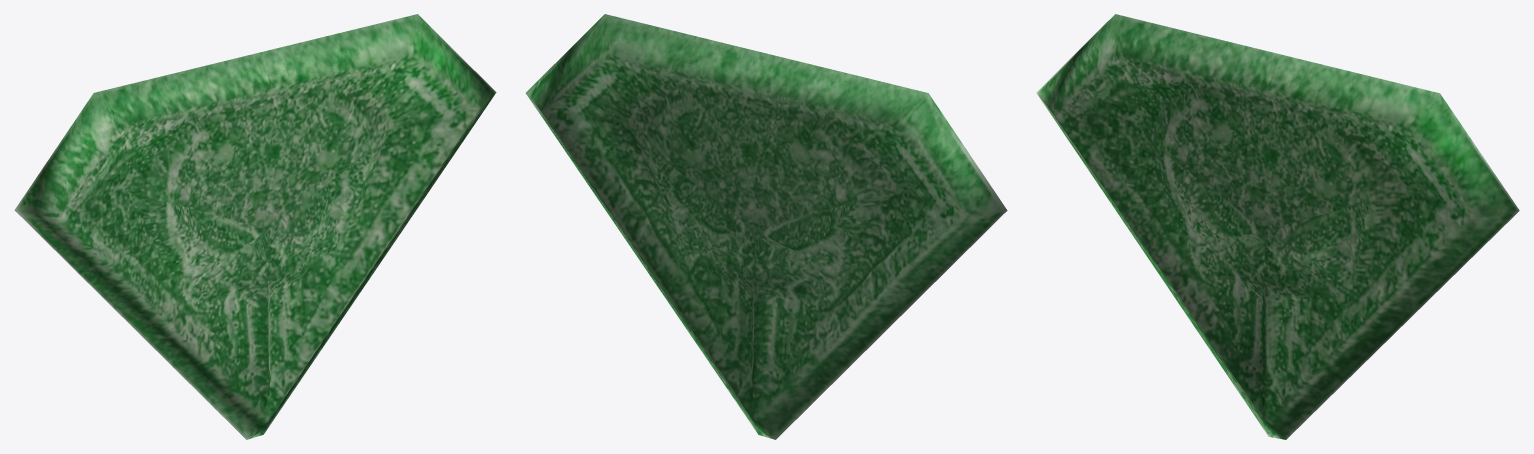
File: Meshy_AI_Frostbite_Skull_Emble_0919202731_texture.fbx
3 views of the same model, side by side, from view 1: azimuth 30°, elevation 25°; view 2: azimuth 150°, elevation 25°; view 3: azimuth 330°, elevation 25° (orthographic).
Parts seen in each view (by area): view 1: Mesh_0; view 2: Mesh_0; view 3: Mesh_0.
Boxes of the visible parts, box(x1,y1,x2,y2) form: Mesh_0: box(14, 14, 496, 439); Mesh_0: box(525, 14, 1007, 439); Mesh_0: box(1036, 14, 1519, 439).
Bounding box in the file's own units: 100 × 76.17 × 9.86.
Materials: 1 (1 with a texture image).
